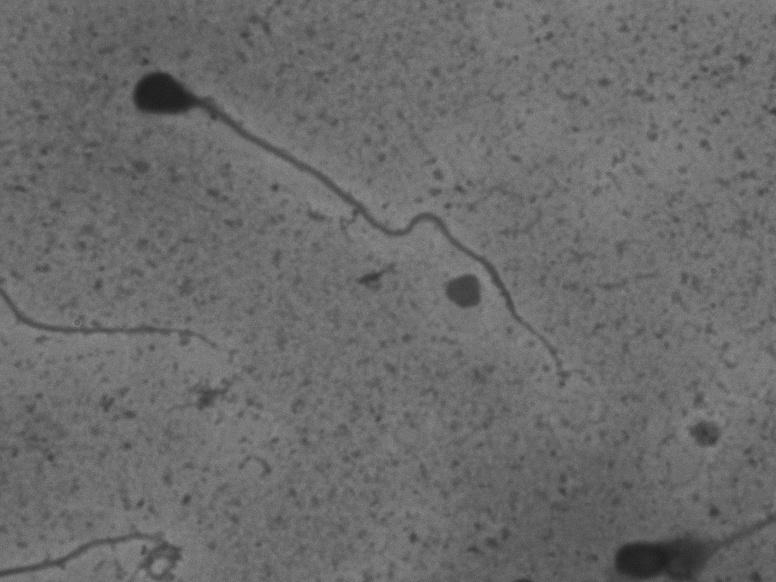Abnormal: (125, 53, 586, 401)
